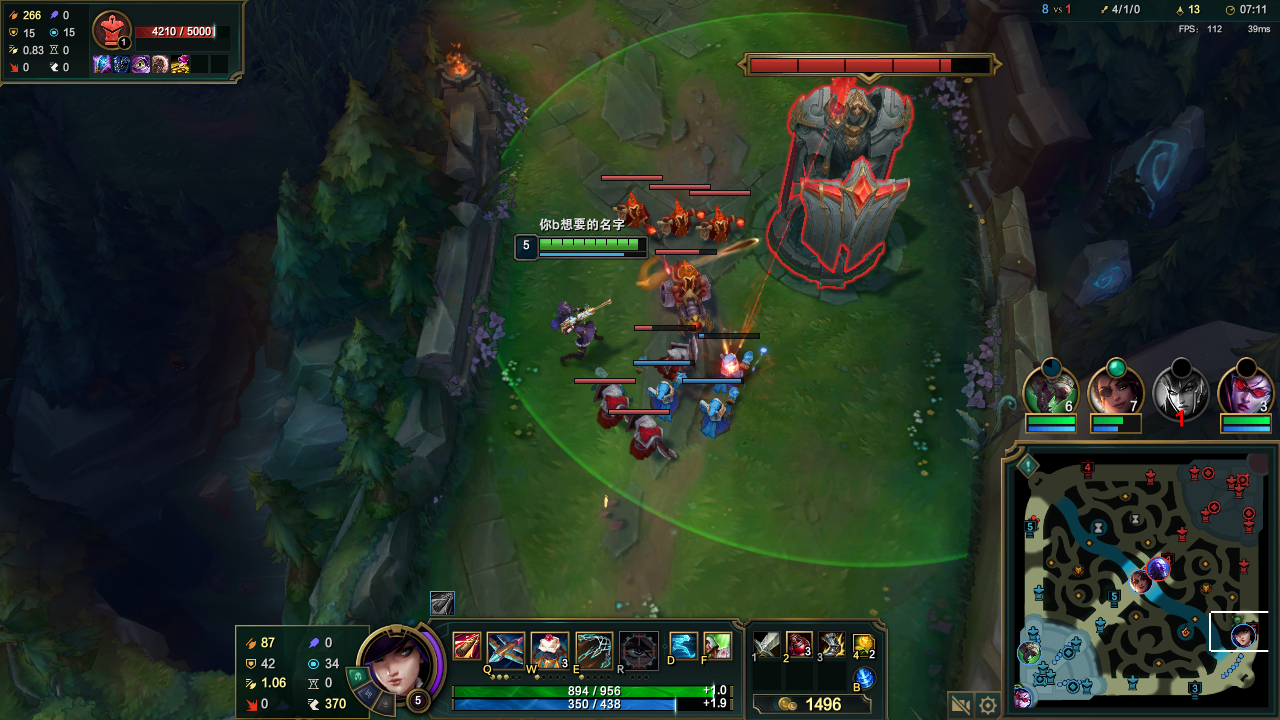DFFYT: (748, 56, 923, 295)
DFXB: (657, 259, 718, 326), (700, 211, 745, 245), (630, 421, 662, 456), (653, 344, 688, 374), (599, 388, 626, 425), (660, 209, 693, 237), (616, 201, 645, 227)
WFXB: (698, 400, 735, 438), (652, 381, 681, 418), (720, 359, 748, 392)
